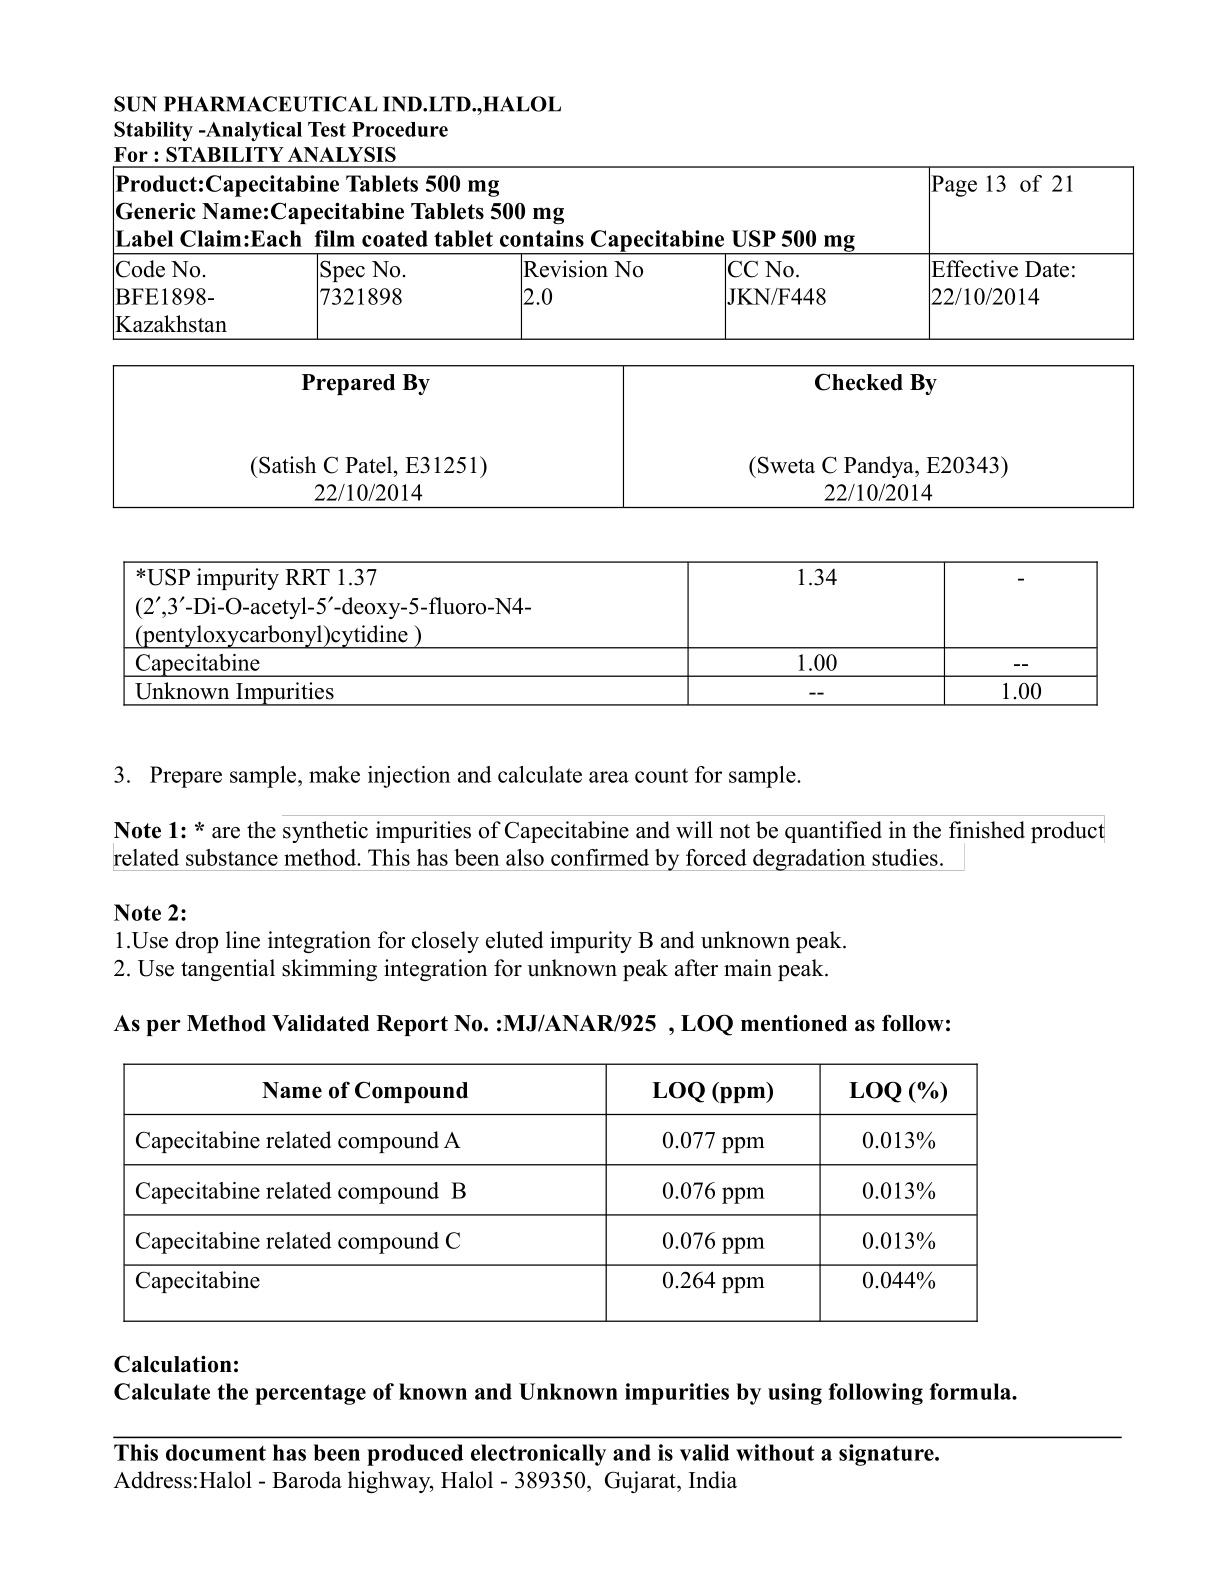full_lined: (123, 1063, 978, 1322), (123, 561, 1098, 706)
merged_cells: (112, 165, 1135, 341)
partial_lined: (112, 365, 1134, 509)
